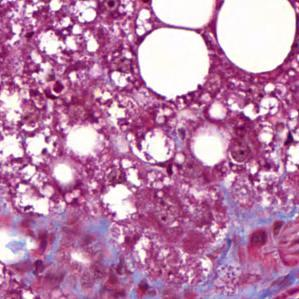steatosis: (135, 28, 214, 98)
